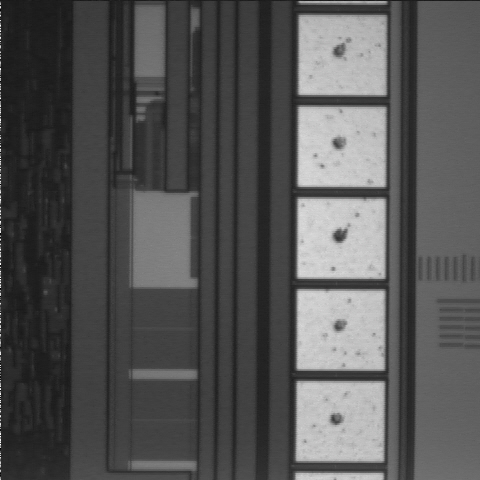pad: (298, 107, 385, 187), (298, 199, 385, 279), (296, 382, 384, 461), (297, 291, 384, 369), (299, 17, 385, 95)
